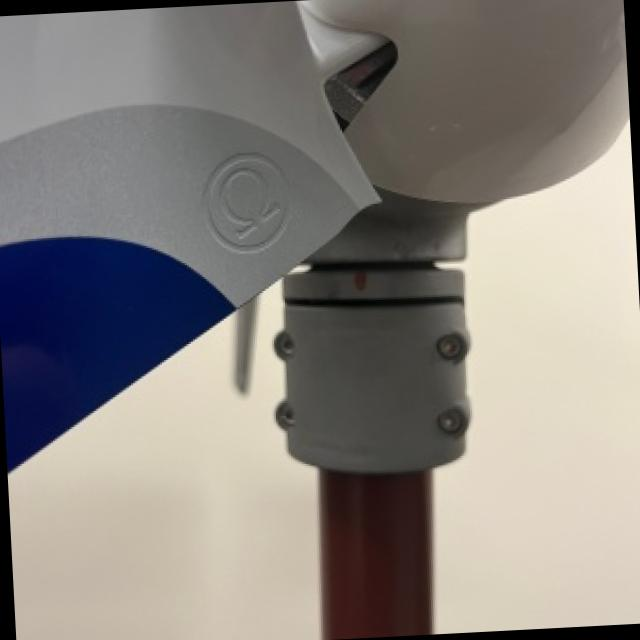healthy: (10, 282, 315, 640)
